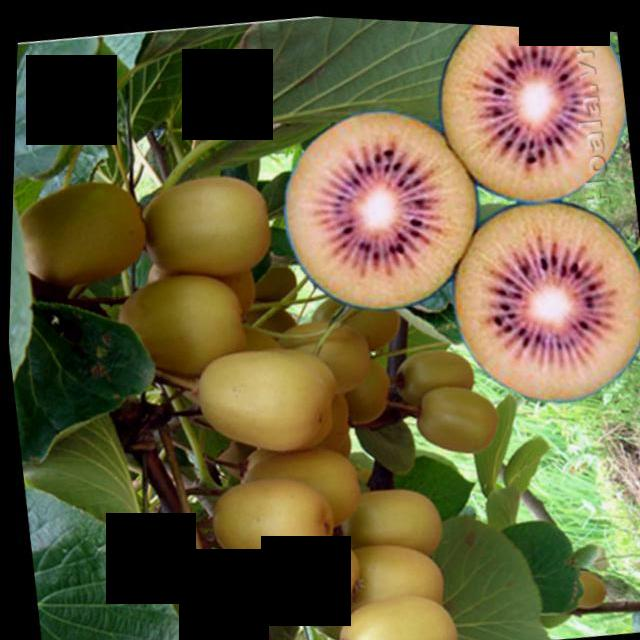kiwi: (192, 340, 338, 463), (134, 166, 275, 286), (11, 173, 150, 293), (108, 266, 247, 385), (208, 468, 342, 578), (241, 522, 367, 629), (329, 531, 450, 634), (233, 440, 359, 535), (267, 348, 392, 434), (336, 477, 447, 569), (267, 314, 374, 399), (303, 283, 405, 363), (408, 374, 504, 457), (332, 581, 465, 640), (391, 339, 478, 402), (545, 558, 612, 608)
